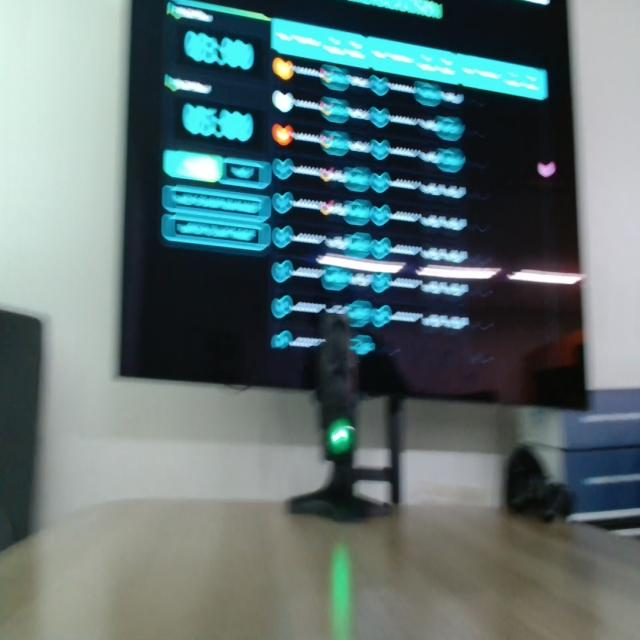green_light: (328, 419, 355, 455)
